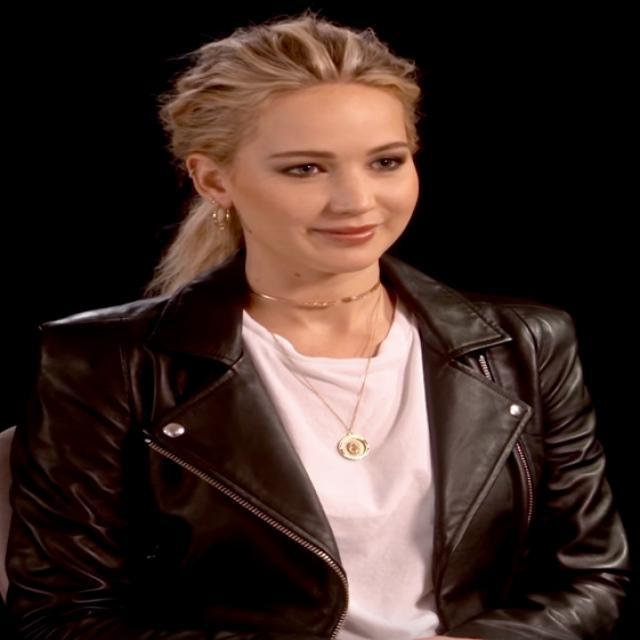Nonhelmet: (140, 0, 433, 281)
